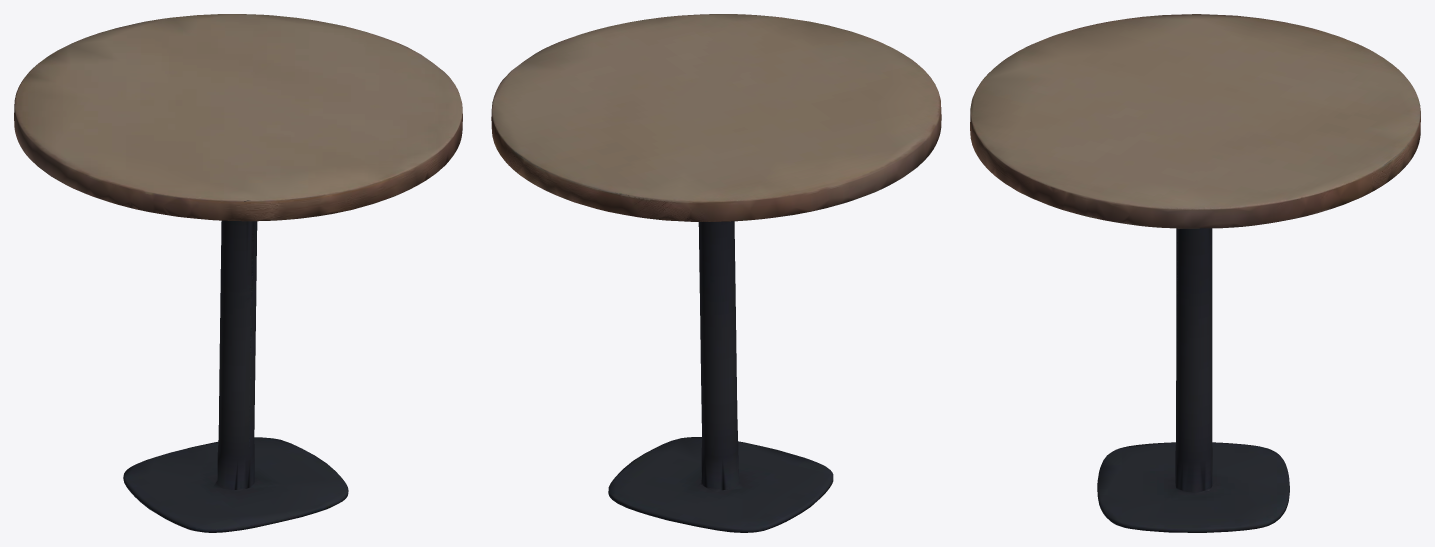
Rendered from tableRound.glb.
The picture shows the model from 3 angles, left to right: view 1: azimuth 30°, elevation 25°; view 2: azimuth 150°, elevation 25°; view 3: azimuth 270°, elevation 25°; orthographic projection.
Visible parts, largest first — view 1: cb_table_round_t1; view 2: cb_table_round_t1; view 3: cb_table_round_t1.
Part boxes in pixels (<box>): cb_table_round_t1: <box>14,14,462,532</box>; cb_table_round_t1: <box>491,14,941,532</box>; cb_table_round_t1: <box>970,14,1420,532</box>.
Size of the model in its own units: 0.7999 by 0.75 by 0.7999.
1 material, 1 textured.
